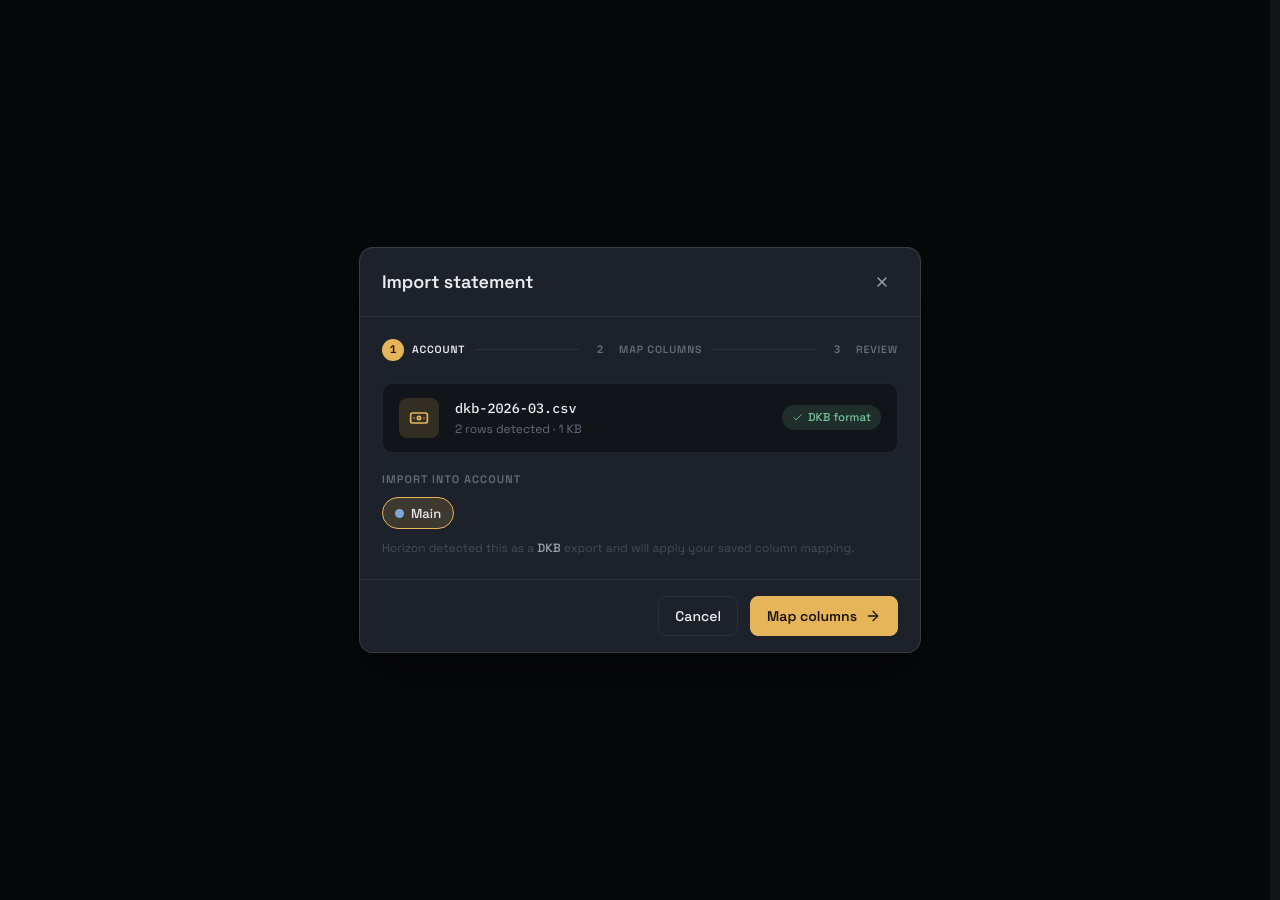
Test: ImportWizard — editable description and blockers (#190) › clears the row's error state as soon as a description is typed
Click the button "Map columns": point(824, 616) [750,596,898,636]
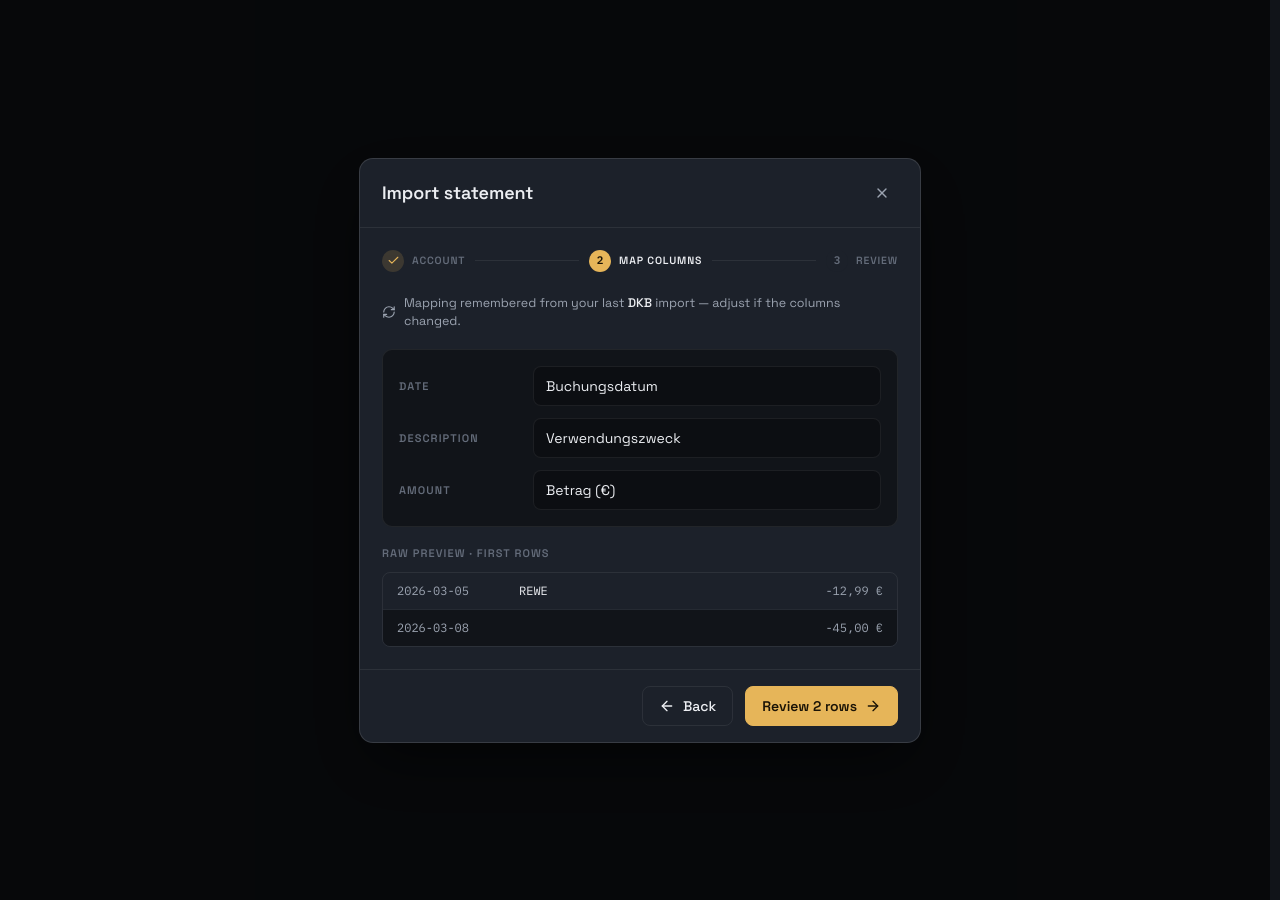
Click the button "Review 2 rows": point(822, 706) [745,686,898,726]
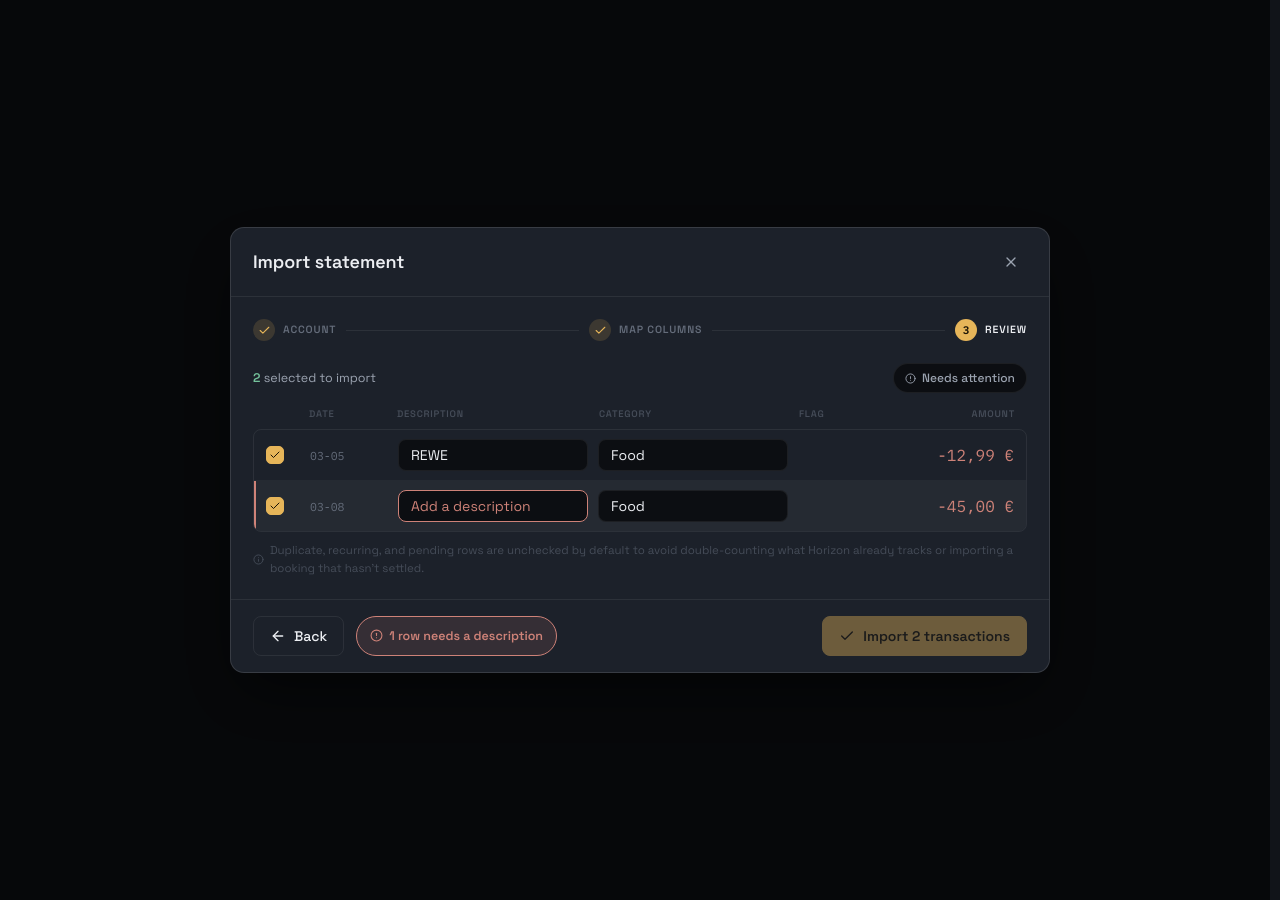
In the field labelled "Add a description": point(493, 506) [398,490,588,522], type "Bäckerei Müller"
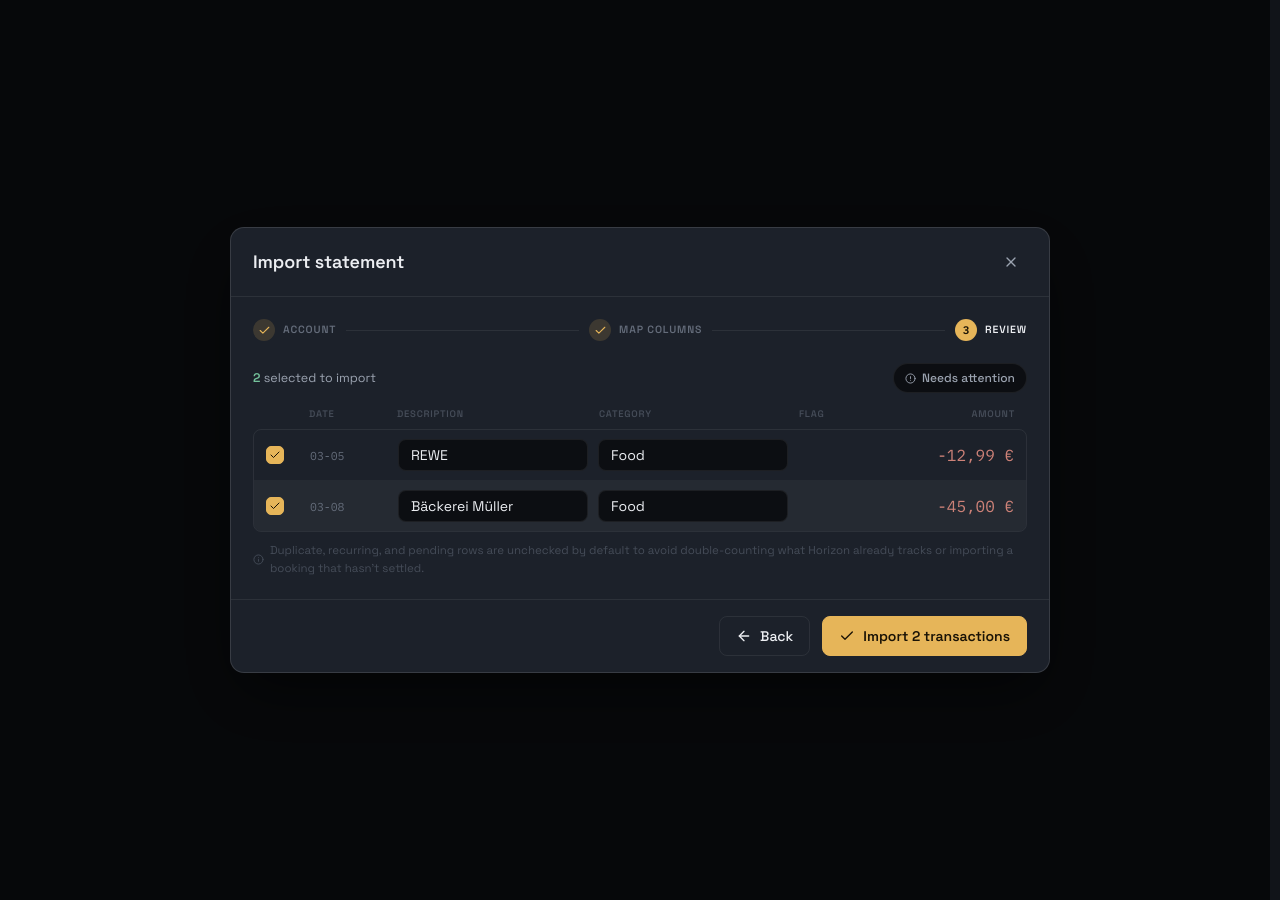
Expected: the button "Import 2 transactions" is enabled, [822,616,1027,656]
